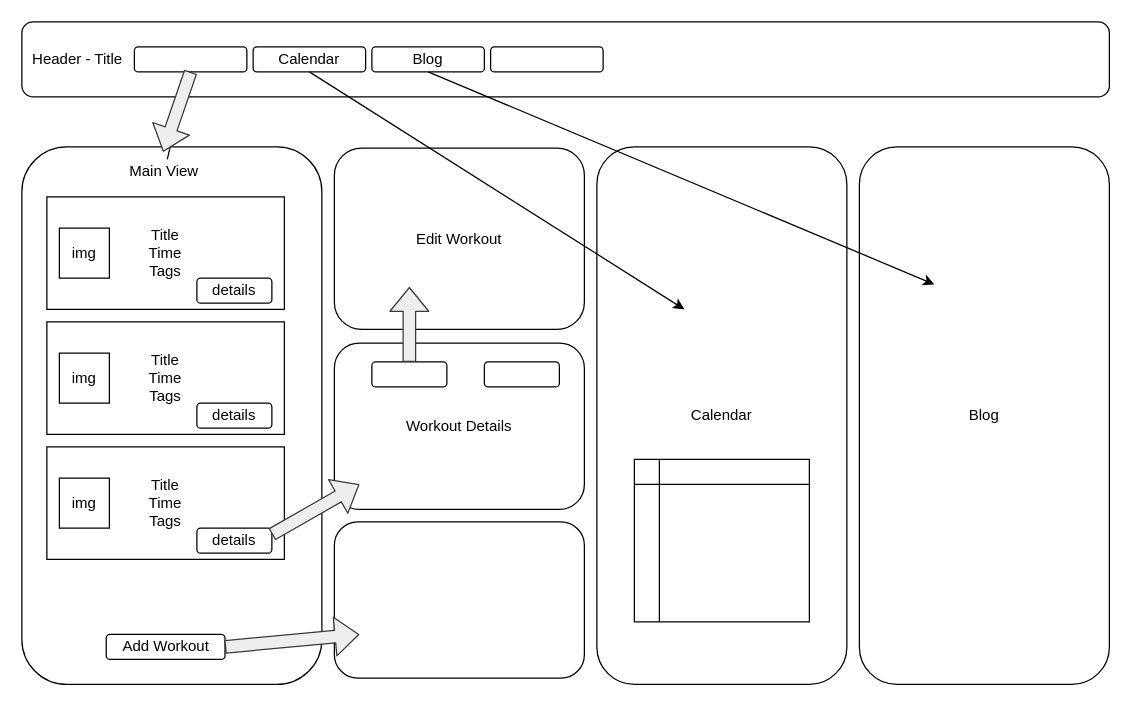
Some shapes in this 1131 by 706 pixel diagram are drawn without their labels. Each missing label, with the centre of its shape:
Add Workout Form: [458,599]
Delete: [521,374]
Edit: [409,374]
Meal Plan: [546,59]
Workouts: [190,59]
